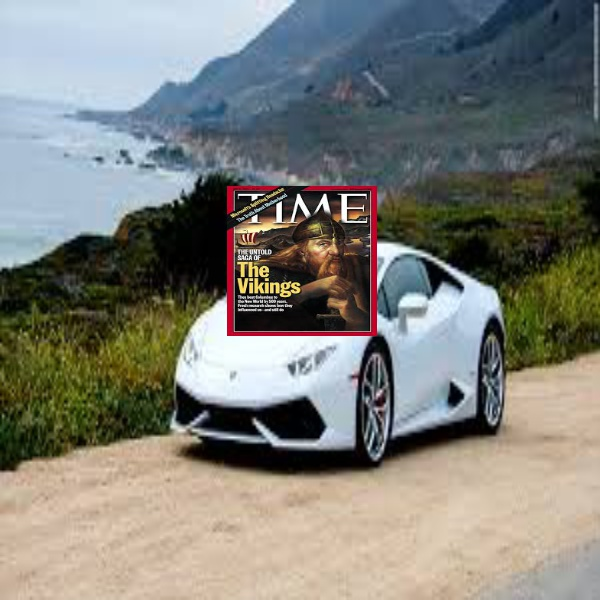time_cover: (221, 172, 388, 340)
